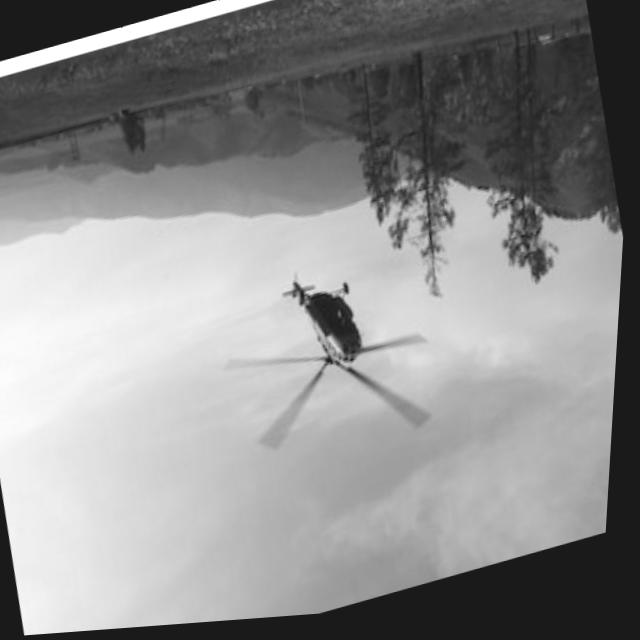helikopter: (192, 206, 493, 461)
